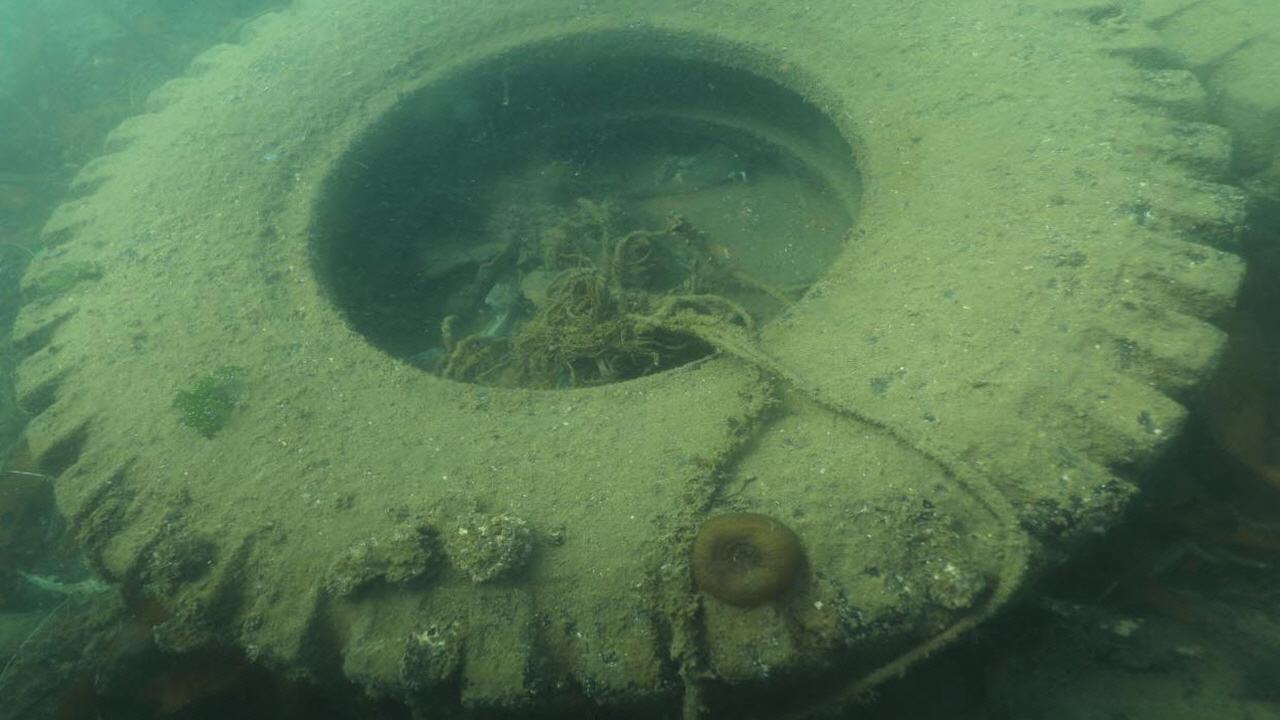bundle of ropes: (621, 289, 1033, 718)
tire: (14, 0, 1243, 716)
